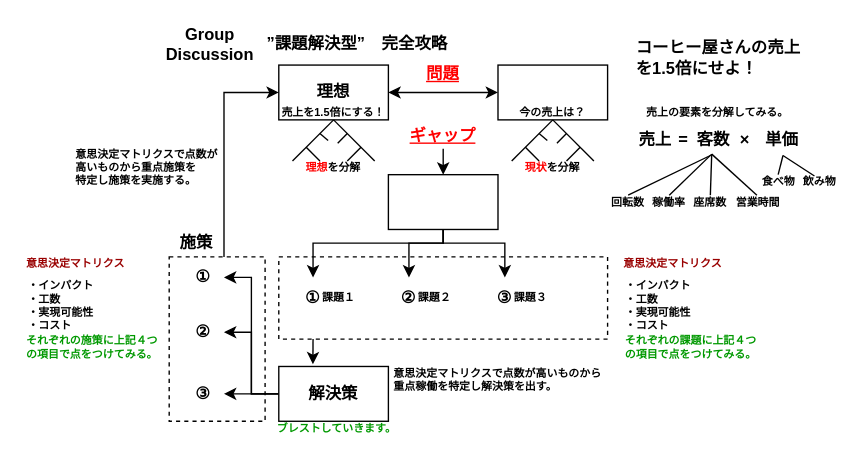
This 863x458 diagram has some shape labels left out. The shapes that lost their labels are listed below. From the top down, each one's box as (x1, y1, x2, y2) in pixels, then its label:
(497, 64, 608, 120): 現状
(387, 173, 498, 229): 課題
